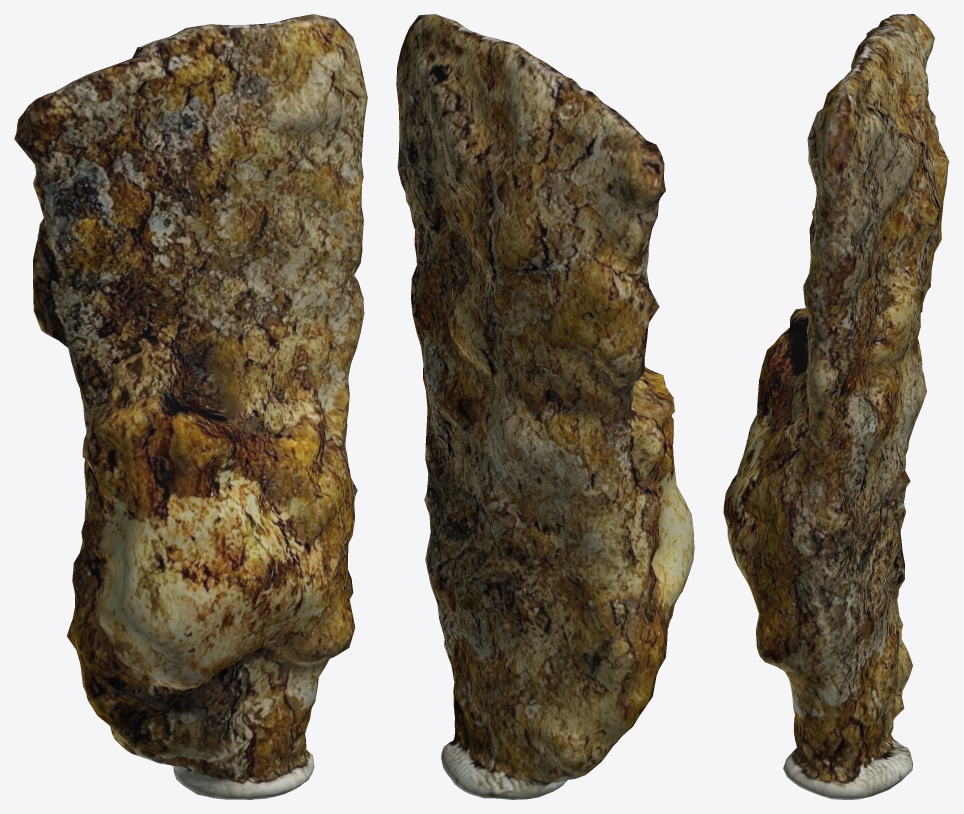
Rendered from EMB_IRON-DAGGER-KLD-3233.glb.
3 renders of one model, left to right at view 1: azimuth 30°, elevation 25°; view 2: azimuth 150°, elevation 25°; view 3: azimuth 270°, elevation 25°, orthographic. The views are drawn at different scales.
Parts seen in each view (by area): view 1: EMB_IRON-DAGGER-KLD-3233; view 2: EMB_IRON-DAGGER-KLD-3233; view 3: EMB_IRON-DAGGER-KLD-3233.
Part boxes in pixels (x1,y1,x2,y2): EMB_IRON-DAGGER-KLD-3233: (14,14,367,799); EMB_IRON-DAGGER-KLD-3233: (396,14,694,799); EMB_IRON-DAGGER-KLD-3233: (723,14,949,799).
Size of the model in its own units: 0.1669 by 0.3913 by 0.1088.
Materials: 1 (1 with a texture image).
